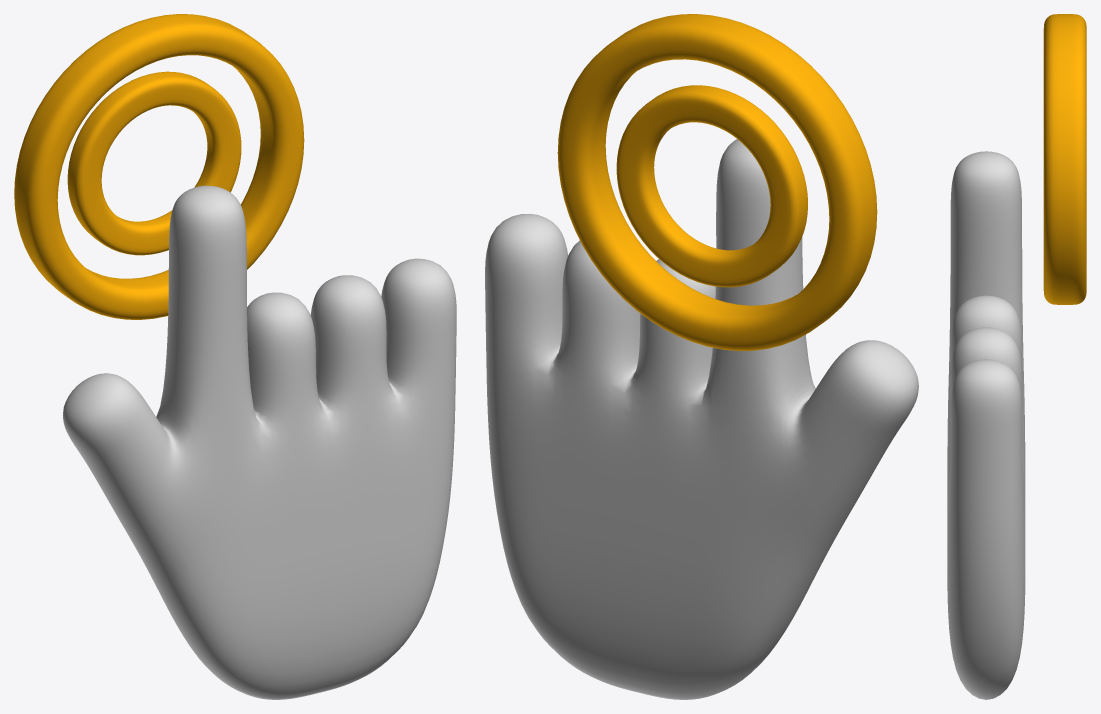
Rendered from cursor-active-animated-3d-icon-851399779502.glb.
3 views of the same model, side by side, from view 1: azimuth 30°, elevation 25°; view 2: azimuth 150°, elevation 25°; view 3: azimuth 270°, elevation 25° (orthographic). The views are drawn at different scales.
Visible parts, largest first — view 1: Pointer 1, Active Cursor 1, Active Target 2; view 2: Pointer 1, Active Cursor 1, Active Target 2; view 3: Pointer 1, Active Cursor 1.
Part boxes in pixels (left/top/right/bottom): Pointer 1: left=63, top=185, right=456, bottom=699; Active Cursor 1: left=14, top=14, right=304, bottom=319; Active Target 2: left=67, top=71, right=241, bottom=255; Pointer 1: left=485, top=139, right=918, bottom=699; Active Cursor 1: left=557, top=14, right=877, bottom=350; Active Target 2: left=616, top=85, right=807, bottom=287; Pointer 1: left=947, top=151, right=1025, bottom=699; Active Cursor 1: left=1043, top=14, right=1086, bottom=304.
Size of the model in its own units: 1.32 by 2.17 by 0.4526.
